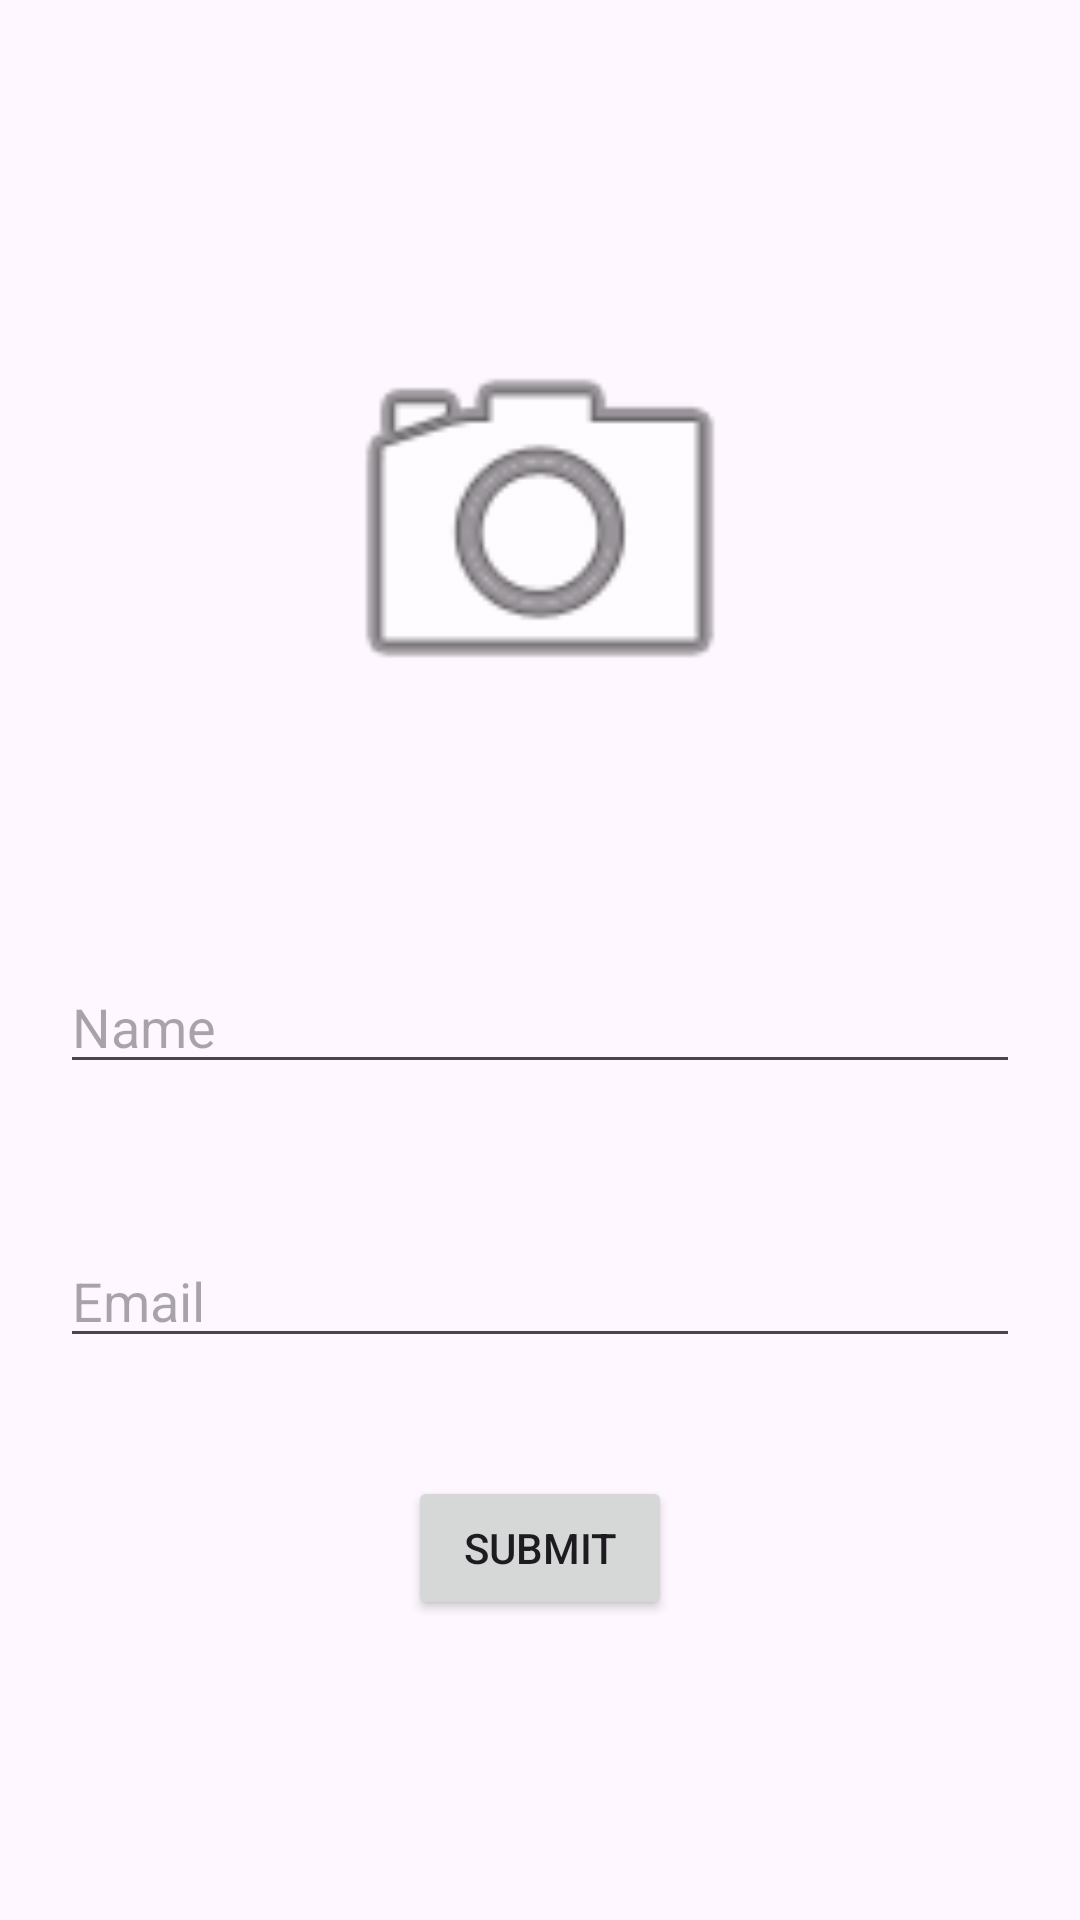

Locate icon controls on the screen. Image size 1080px×1920px, boxes as (x1=x1, y1=y1, x2=x2, y2=y2).
camera: (x1=366, y1=379, x2=714, y2=657)
